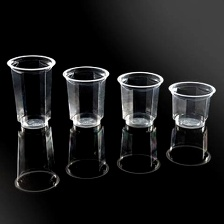glass: (3, 51, 58, 136), (8, 121, 64, 195), (60, 60, 112, 126), (114, 69, 167, 130), (61, 120, 112, 181), (167, 75, 217, 130), (114, 119, 163, 175), (163, 124, 213, 167)
